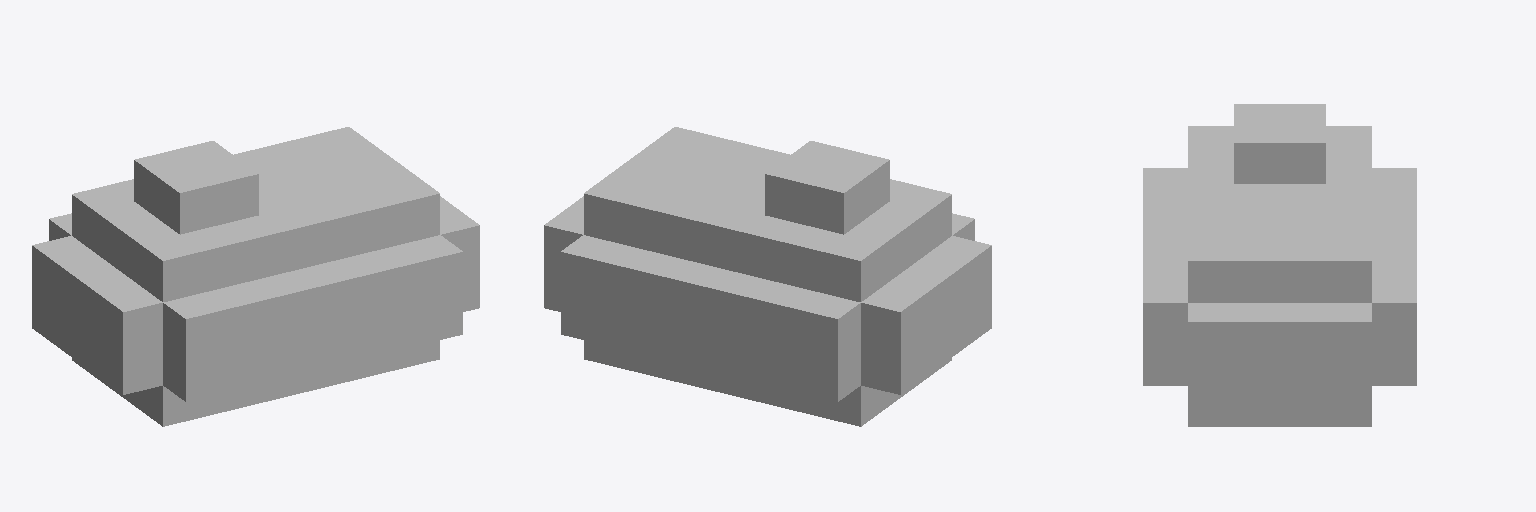
File: general_store.obj
3 views of the same model, side by side, from view 1: azimuth 30°, elevation 25°; view 2: azimuth 150°, elevation 25°; view 3: azimuth 270°, elevation 25° (orthographic).
Visible parts, largest first — view 1: entity0_brush31, entity0_brush33, entity0_brush34, entity0_brush9, entity0_brush5, entity0_brush3, entity0_brush8, entity0_brush2, entity0_brush0, entity0_brush32, entity0_brush4, entity0_brush1 (+1 smaller); view 2: entity0_brush6, entity0_brush31, entity0_brush33, entity0_brush0, entity0_brush9, entity0_brush8, entity0_brush34, entity0_brush36, entity0_brush7; view 3: entity0_brush31, entity0_brush7, entity0_brush6, entity0_brush9, entity0_brush4, entity0_brush8, entity0_brush32, entity0_brush36, entity0_brush3, entity0_brush5, entity0_brush33, entity0_brush1 (+1 smaller).
Boxes of the visible parts, x1,y1,x2,y2 form: entity0_brush31: [234, 127, 439, 272]; entity0_brush33: [72, 185, 202, 301]; entity0_brush34: [78, 269, 162, 394]; entity0_brush9: [134, 141, 258, 234]; entity0_brush5: [322, 245, 423, 363]; entity0_brush3: [203, 274, 304, 391]; entity0_brush8: [72, 340, 439, 426]; entity0_brush2: [163, 293, 225, 401]; entity0_brush0: [32, 236, 115, 361]; entity0_brush32: [181, 216, 281, 292]; entity0_brush4: [401, 235, 462, 343]; entity0_brush1: [282, 264, 343, 372]; entity0_brush6: [561, 235, 860, 401]; entity0_brush31: [584, 127, 789, 272]; entity0_brush33: [821, 185, 951, 301]; entity0_brush0: [861, 269, 945, 394]; entity0_brush9: [765, 141, 889, 234]; entity0_brush8: [584, 340, 951, 426]; entity0_brush34: [908, 236, 991, 361]; entity0_brush36: [742, 216, 842, 292]; entity0_brush7: [544, 196, 583, 311]; entity0_brush31: [1188, 184, 1371, 302]; entity0_brush7: [1188, 303, 1371, 404]; entity0_brush6: [1372, 168, 1416, 385]; entity0_brush9: [1234, 104, 1325, 183]; entity0_brush4: [1143, 284, 1187, 385]; entity0_brush8: [1188, 405, 1371, 426]; entity0_brush32: [1188, 145, 1233, 183]; entity0_brush36: [1326, 145, 1371, 183]; entity0_brush3: [1143, 187, 1187, 225]; entity0_brush5: [1143, 245, 1187, 283]; entity0_brush33: [1188, 126, 1371, 144]; entity0_brush1: [1143, 226, 1187, 244].
Size of the model in its own units: 576 by 320 by 384.